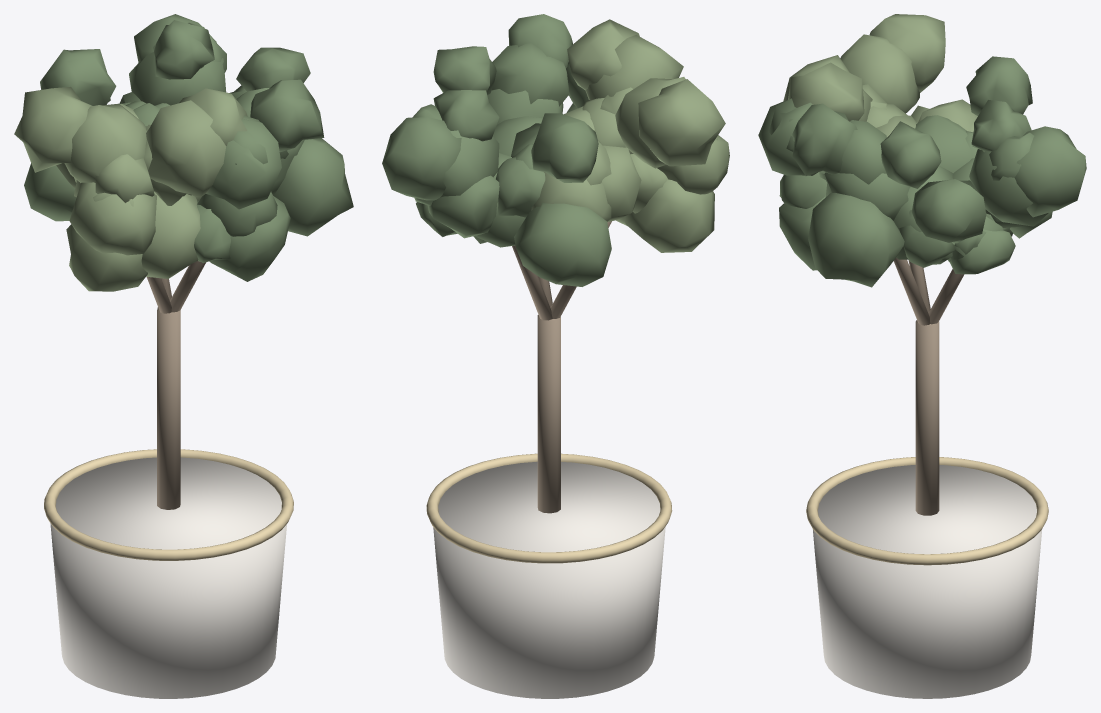
Rendered from plante.glb.
The picture shows the model from 3 angles, left to right: view 1: azimuth 30°, elevation 25°; view 2: azimuth 150°, elevation 25°; view 3: azimuth 270°, elevation 25°; orthographic projection. The views are drawn at different scales.
Parts seen in each view (by area): view 1: Cylinder, Torus, Icosphere.030, Icosphere.028, Cylinder.002, Icosphere.039, Icosphere.033, Icosphere.045, Icosphere.037, Icosphere.025, Icosphere.018, Icosphere.006 (+14 smaller); view 2: Cylinder, Icosphere.038, Torus, Icosphere.033, Icosphere.035, Cylinder.002, Icosphere.006, Icosphere.044, Icosphere.034, Icosphere.030, Icosphere.036, Icosphere.002 (+16 smaller); view 3: Cylinder, Icosphere.028, Torus, Cylinder.002, Icosphere.035, Icosphere.004, Icosphere.045, Icosphere.025, Icosphere.033, Icosphere.036, Icosphere.016, Icosphere.044 (+18 smaller).
Part boxes in pixels (left/top/right/bottom): Cylinder: left=50, top=457, right=286, bottom=698; Torus: left=44, top=449, right=293, bottom=560; Icosphere.030: left=146, top=100, right=225, bottom=196; Icosphere.028: left=274, top=138, right=353, bottom=236; Cylinder.002: left=157, top=307, right=180, bottom=509; Icosphere.039: left=69, top=182, right=156, bottom=255; Icosphere.033: left=14, top=87, right=92, bottom=172; Icosphere.045: left=64, top=103, right=146, bottom=182; Icosphere.037: left=206, top=119, right=281, bottom=209; Icosphere.025: left=250, top=79, right=324, bottom=152; Icosphere.018: left=141, top=192, right=200, bottom=278; Icosphere.006: left=66, top=224, right=147, bottom=291; Cylinder: left=433, top=461, right=665, bottom=698; Icosphere.038: left=514, top=202, right=611, bottom=286; Torus: left=426, top=453, right=672, bottom=563; Icosphere.033: left=638, top=79, right=725, bottom=166; Icosphere.035: left=382, top=117, right=461, bottom=200; Cylinder.002: left=537, top=315, right=560, bottom=513; Icosphere.006: left=624, top=179, right=714, bottom=252; Icosphere.044: left=531, top=113, right=598, bottom=182; Icosphere.034: left=492, top=43, right=568, bottom=106; Icosphere.030: left=585, top=35, right=683, bottom=100; Icosphere.036: left=567, top=19, right=639, bottom=89; Icosphere.002: left=427, top=175, right=499, bottom=238; Cylinder: left=813, top=465, right=1042, bottom=698; Icosphere.028: left=808, top=192, right=904, bottom=287; Torus: left=806, top=457, right=1048, bottom=565; Cylinder.002: left=915, top=320, right=939, bottom=515; Icosphere.035: left=1014, top=126, right=1086, bottom=217; Icosphere.004: left=911, top=179, right=986, bottom=244; Icosphere.045: left=840, top=34, right=919, bottom=113; Icosphere.025: left=792, top=103, right=857, bottom=175; Icosphere.033: left=869, top=14, right=945, bottom=92; Icosphere.036: left=788, top=62, right=864, bottom=121; Icosphere.016: left=880, top=121, right=941, bottom=188; Icosphere.044: left=966, top=56, right=1032, bottom=115.
Bounding box in the file's own units: 1.99 × 3.86 × 1.96.
